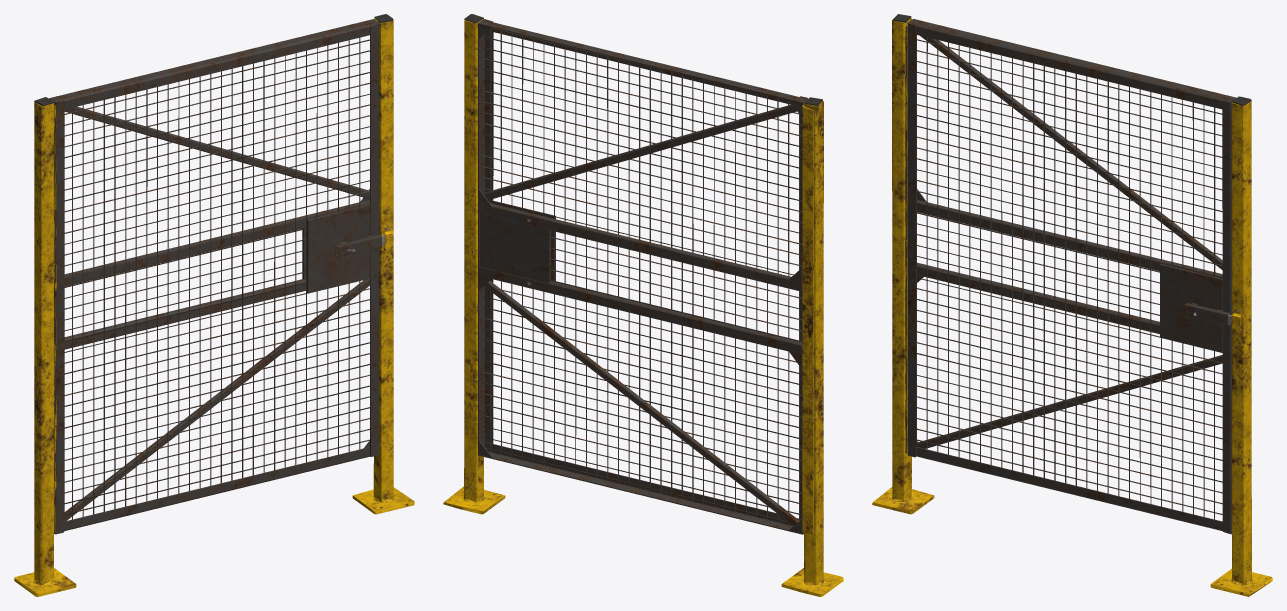
The model's file is shelter_c_guard_panel.glb.
3 views of the same model, side by side, from view 1: azimuth 30°, elevation 25°; view 2: azimuth 150°, elevation 25°; view 3: azimuth 330°, elevation 25° (orthographic).
Visible parts, largest first — view 1: shelter_c_guard_panel; view 2: shelter_c_guard_panel; view 3: shelter_c_guard_panel.
Boxes of the visible parts, x1,y1,x2,y2 form: shelter_c_guard_panel: (14, 14, 414, 596); shelter_c_guard_panel: (443, 14, 843, 596); shelter_c_guard_panel: (872, 14, 1272, 596).
Bounding box in the file's own units: 1.4 × 1.7 × 0.1491.
Materials: 4 (4 with a texture image).
